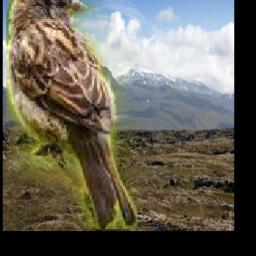Sparrow: (7, 0, 138, 229)
